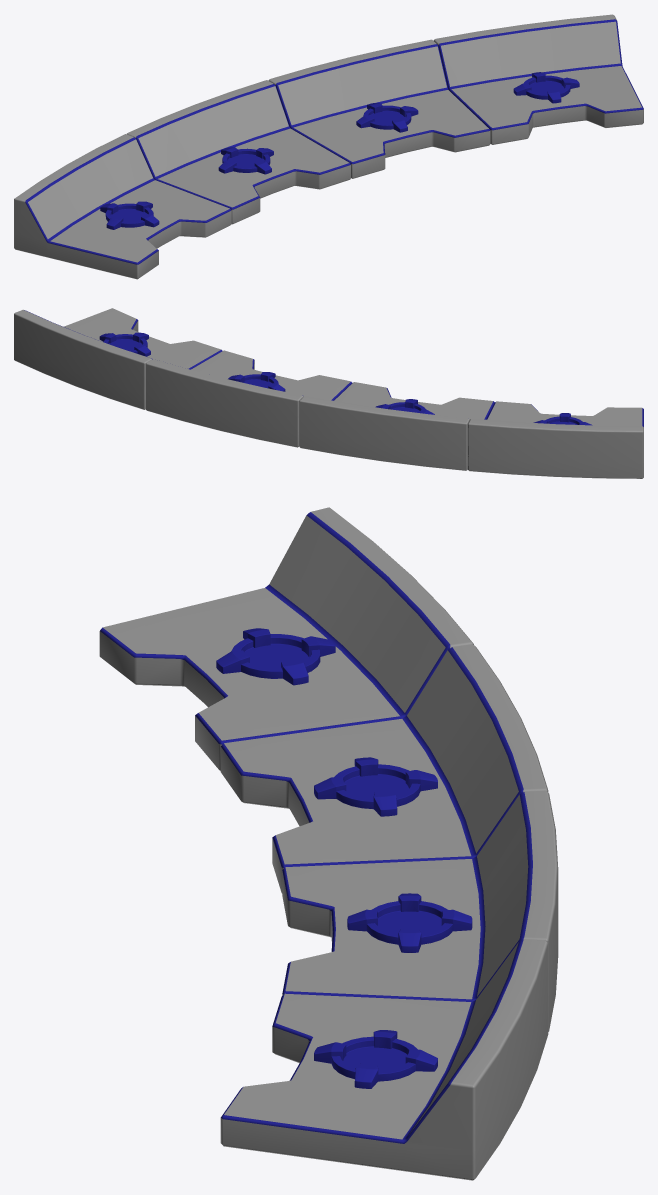
File: Atom Trays.FBX
3 renders of one model, top to bottom at view 1: azimuth 30°, elevation 25°; view 2: azimuth 150°, elevation 25°; view 3: azimuth 270°, elevation 25°, orthographic. The views are drawn at different scales.
Parts seen in each view (by area): view 1: Tray_002, Tray_004, Tray_001, Tray_003; view 2: Tray_004, Tray_003, Tray_001, Tray_002; view 3: Tray_002, Tray_004, Tray_003, Tray_001.
Part boxes in pixels (box(x1,y1,x2,y2)): Tray_002: box(433, 14, 643, 144); Tray_004: box(14, 134, 231, 279); Tray_001: box(268, 39, 490, 178); Tray_003: box(127, 80, 350, 224); Tray_004: box(467, 401, 643, 478); Tray_003: box(299, 382, 494, 470); Tray_001: box(145, 350, 351, 447); Tray_002: box(14, 308, 222, 409); Tray_002: box(220, 939, 548, 1180); Tray_004: box(99, 507, 473, 770); Tray_003: box(220, 644, 548, 893); Tray_001: box(282, 790, 558, 1031).
Bounding box in the file's own units: 153 × 11.88 × 51.28.
